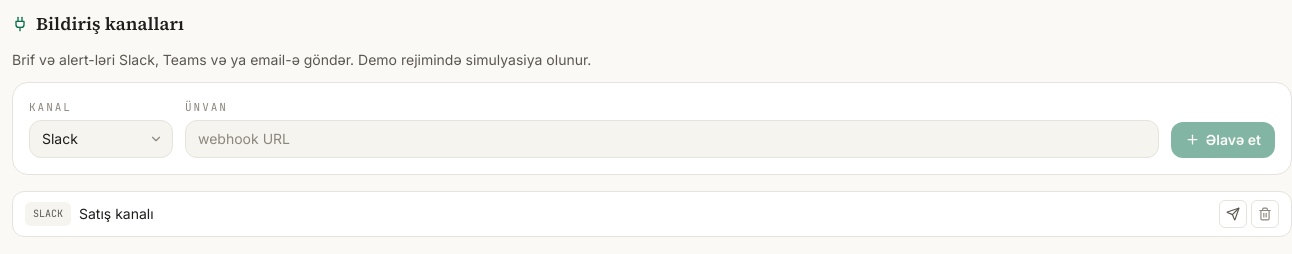
IntegrationsPanel — deleting a channel › removes the row once the server confirms
This screenshot has width=1292, height=254.
Click the button named "Sil". click: (1265, 214)
box: x1=1251 y1=200 x2=1279 y2=228
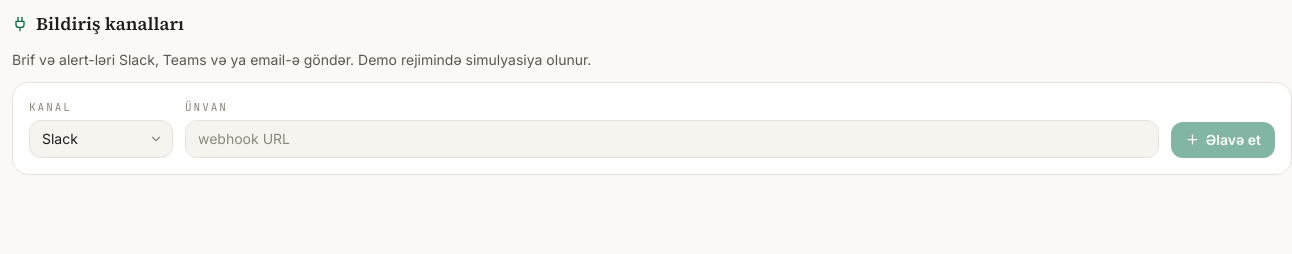
Now the text "Satış kanalı" is gone
